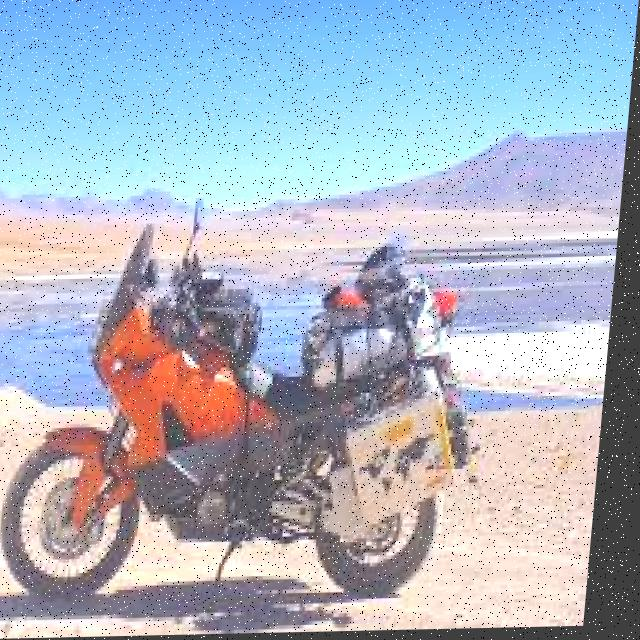bike: (0, 222, 494, 632)
